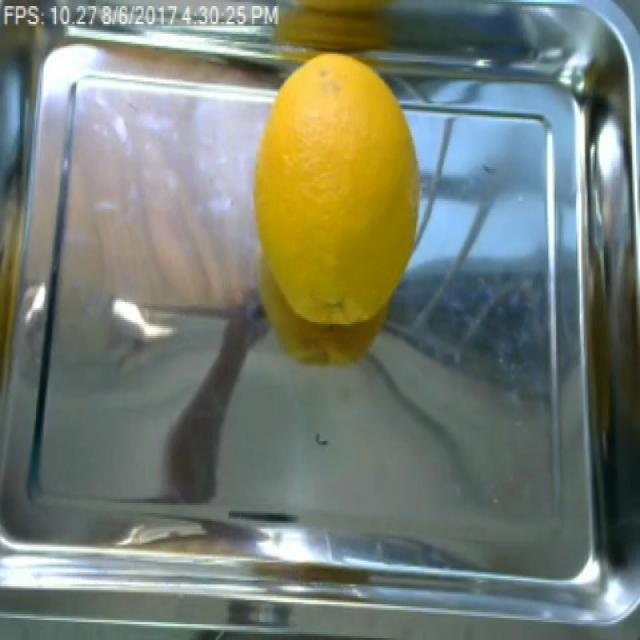Fruit: (246, 48, 430, 380)
